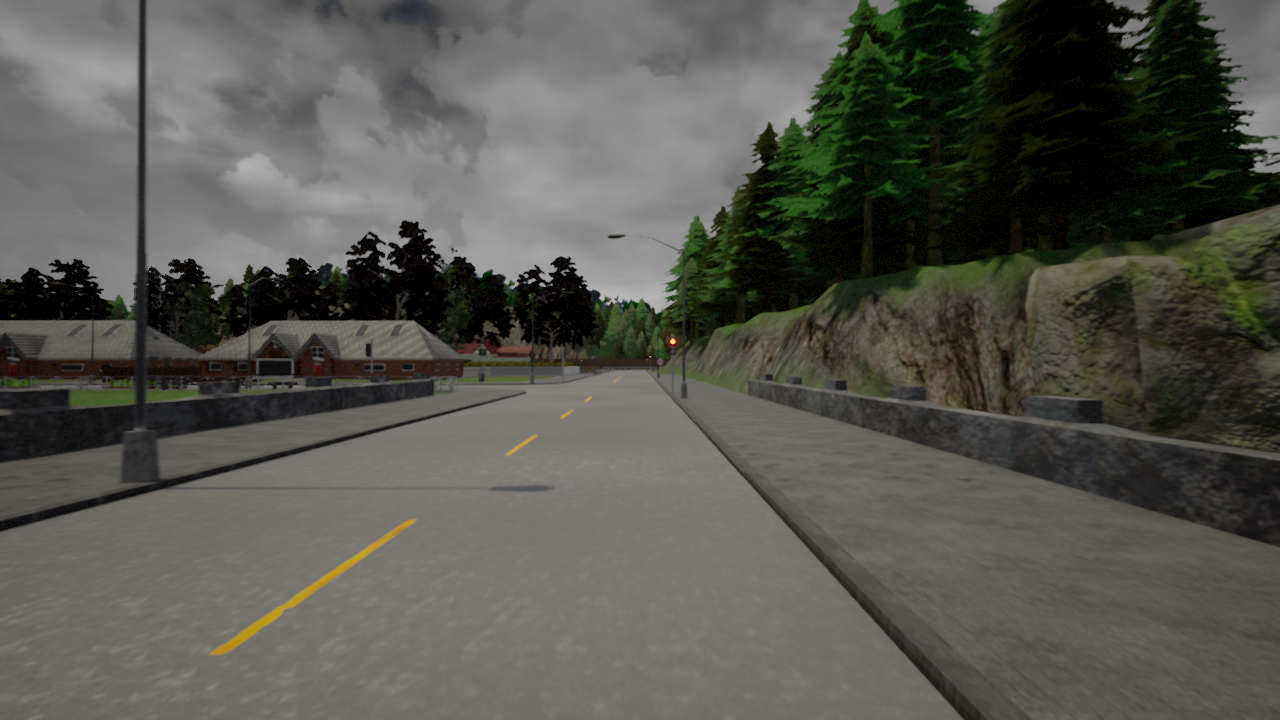red: (669, 337, 676, 355)
